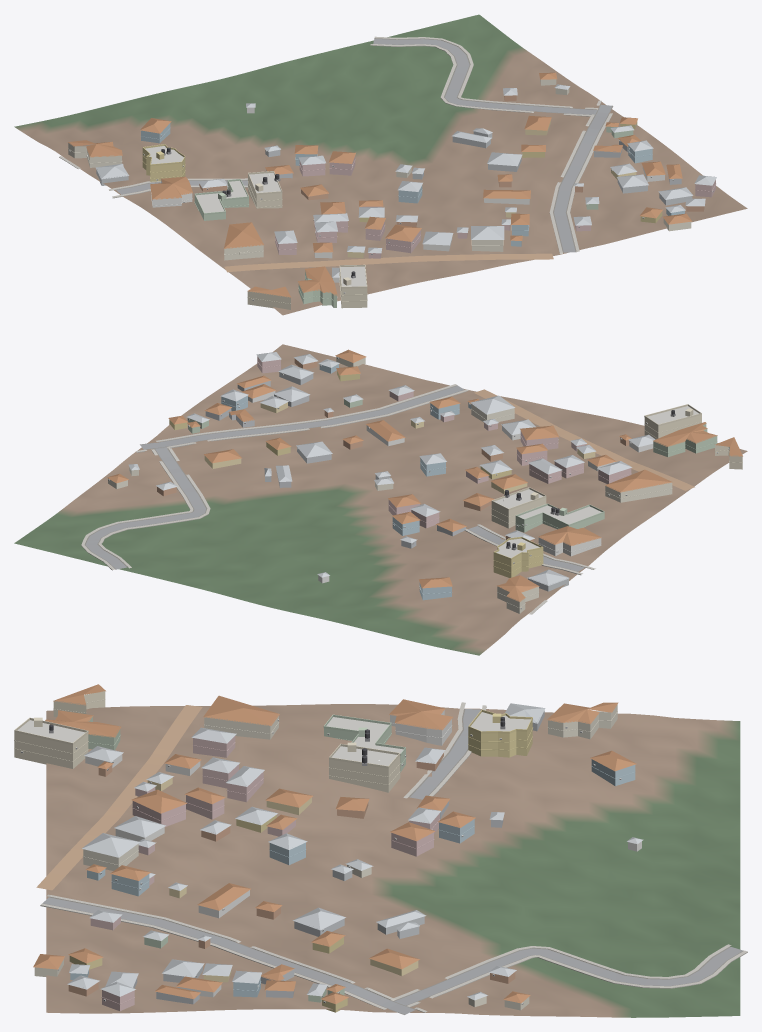
The picture shows the model from 3 angles, top to bottom: view 1: azimuth 30°, elevation 25°; view 2: azimuth 150°, elevation 25°; view 3: azimuth 270°, elevation 25°; orthographic projection. The views are drawn at different scales.
Visible parts, largest first — view 1: Terrain-col, Buildings-col, Roads-col, Sidewalks-col, Details; view 2: Terrain-col, Buildings-col, Roads-col, Sidewalks-col, Details; view 3: Terrain-col, Buildings-col, Roads-col, Sidewalks-col, Details.
Boxes of the visible parts, x1,y1,x2,y2 form: Terrain-col: (14, 14, 747, 315); Buildings-col: (68, 72, 716, 309); Roads-col: (116, 38, 613, 272); Sidewalks-col: (59, 36, 612, 253); Details: (68, 95, 716, 303); Terrain-col: (14, 344, 747, 655); Buildings-col: (107, 349, 742, 613); Roads-col: (85, 385, 694, 571); Sidewalks-col: (81, 384, 595, 614); Details: (108, 357, 742, 609); Terrain-col: (46, 704, 740, 1017); Buildings-col: (14, 684, 643, 1012); Roads-col: (36, 705, 743, 1014); Sidewalks-col: (40, 702, 747, 1012); Details: (14, 699, 635, 1004).
Size of the model in its own units: 267 by 19.11 by 271.
